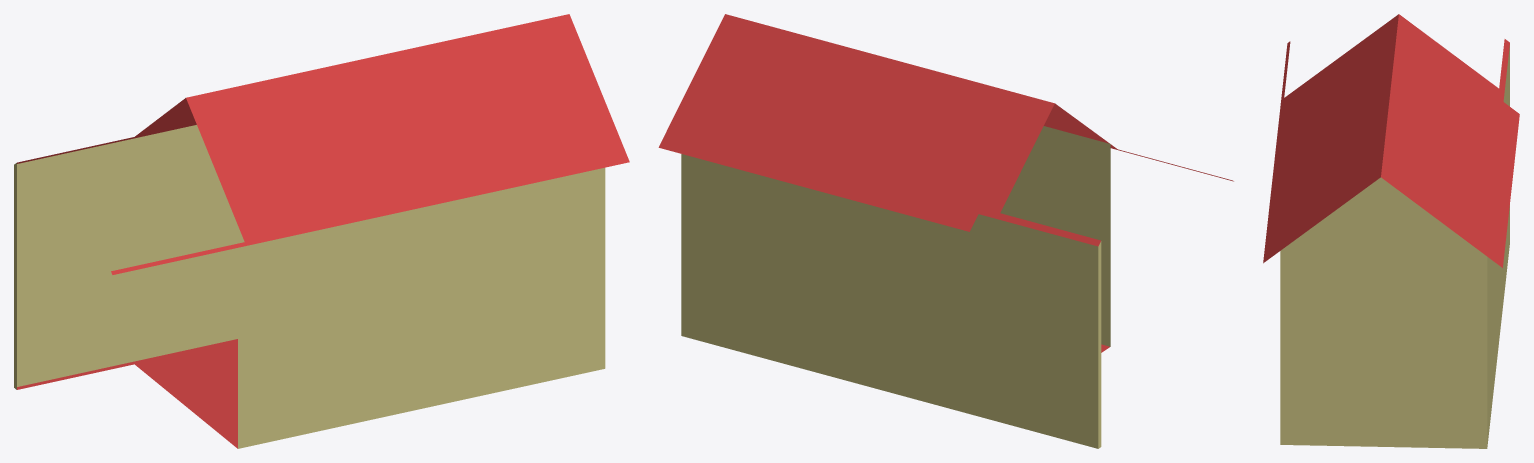
The picture shows the model from 3 angles, left to right: view 1: azimuth 30°, elevation 25°; view 2: azimuth 150°, elevation 25°; view 3: azimuth 270°, elevation 25°; orthographic projection. The views are drawn at different scales.
Size of the model in its own units: 24.42 by 11.78 by 13.99.
